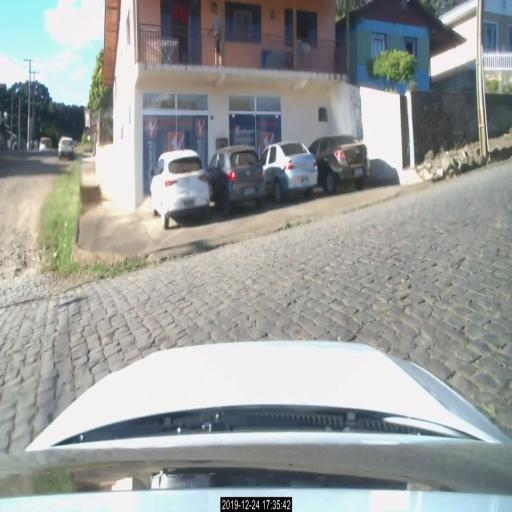Pothole: (4, 233, 34, 290)
